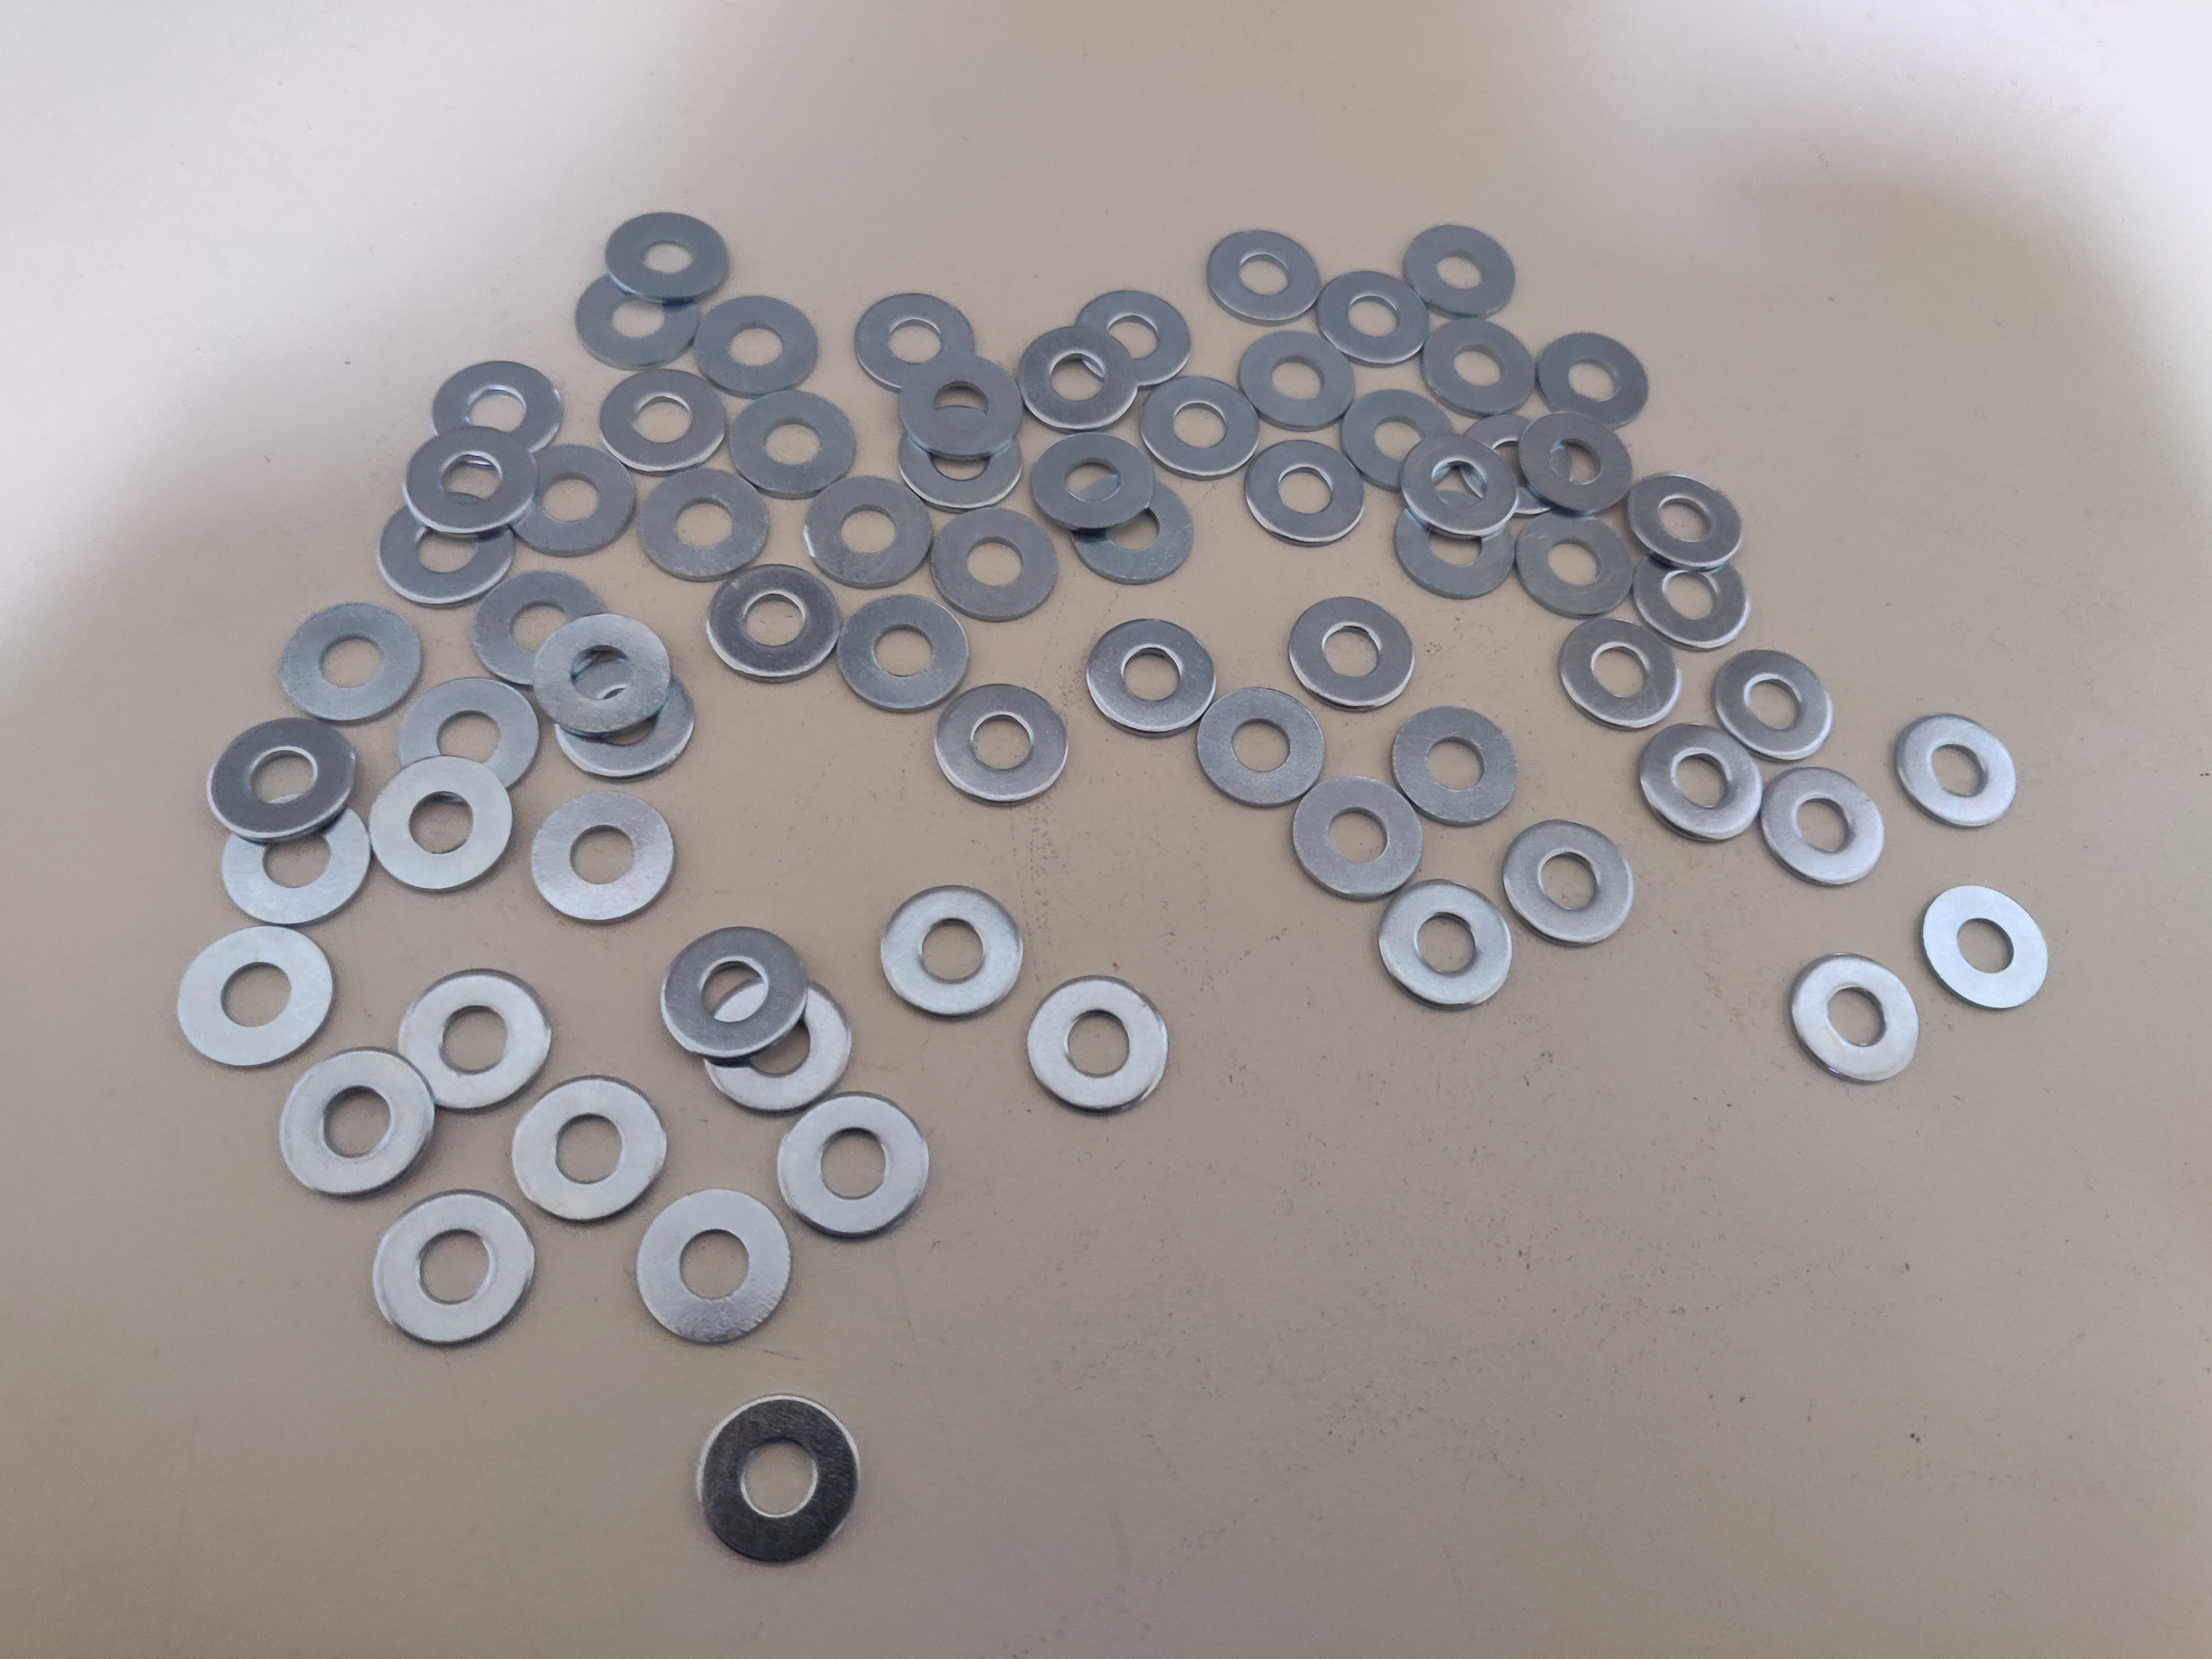circle: (695, 1398, 862, 1568), (376, 1190, 536, 1347), (775, 1089, 934, 1243), (637, 1190, 791, 1344), (280, 1047, 434, 1201), (178, 924, 336, 1068), (512, 1077, 669, 1220), (397, 972, 550, 1110), (1024, 976, 1170, 1119), (662, 925, 812, 1058), (221, 791, 369, 924), (364, 760, 512, 892), (705, 979, 852, 1112), (207, 720, 359, 847), (878, 885, 1026, 1014), (533, 791, 672, 924), (554, 653, 697, 782), (1193, 683, 1329, 812), (935, 681, 1075, 807), (1379, 880, 1512, 1009), (707, 561, 845, 685), (1789, 955, 1919, 1084), (1501, 821, 1634, 948), (408, 678, 540, 803), (1390, 706, 1522, 831), (838, 596, 974, 718), (533, 615, 671, 735), (282, 603, 421, 721), (1082, 619, 1221, 737), (378, 493, 521, 608), (1923, 885, 2050, 1011), (637, 467, 773, 584), (1294, 777, 1423, 899), (1289, 592, 1418, 714), (475, 572, 610, 687), (1757, 763, 1885, 884), (928, 511, 1061, 624), (1639, 725, 1764, 843), (1397, 486, 1524, 603), (732, 389, 860, 504), (1068, 472, 1198, 586), (601, 362, 728, 476), (509, 444, 636, 558), (1707, 648, 1836, 760), (1890, 714, 2015, 828), (852, 293, 981, 403), (1514, 507, 1637, 620), (1245, 437, 1371, 549), (430, 357, 559, 465), (406, 430, 538, 535), (1458, 411, 1576, 528), (1557, 619, 1679, 730), (1139, 375, 1263, 484), (1341, 387, 1460, 500), (1400, 432, 1521, 544), (691, 295, 819, 399), (1012, 328, 1139, 430), (895, 410, 1024, 511), (575, 267, 698, 371), (1028, 432, 1153, 535), (1521, 408, 1634, 519), (899, 355, 1024, 455), (1421, 319, 1538, 425), (1634, 545, 1750, 652), (1071, 289, 1191, 390), (1238, 331, 1355, 432), (606, 211, 730, 305), (1406, 223, 1517, 324), (1634, 471, 1745, 572), (1205, 228, 1318, 328), (1536, 333, 1648, 432), (1318, 270, 1428, 368)
